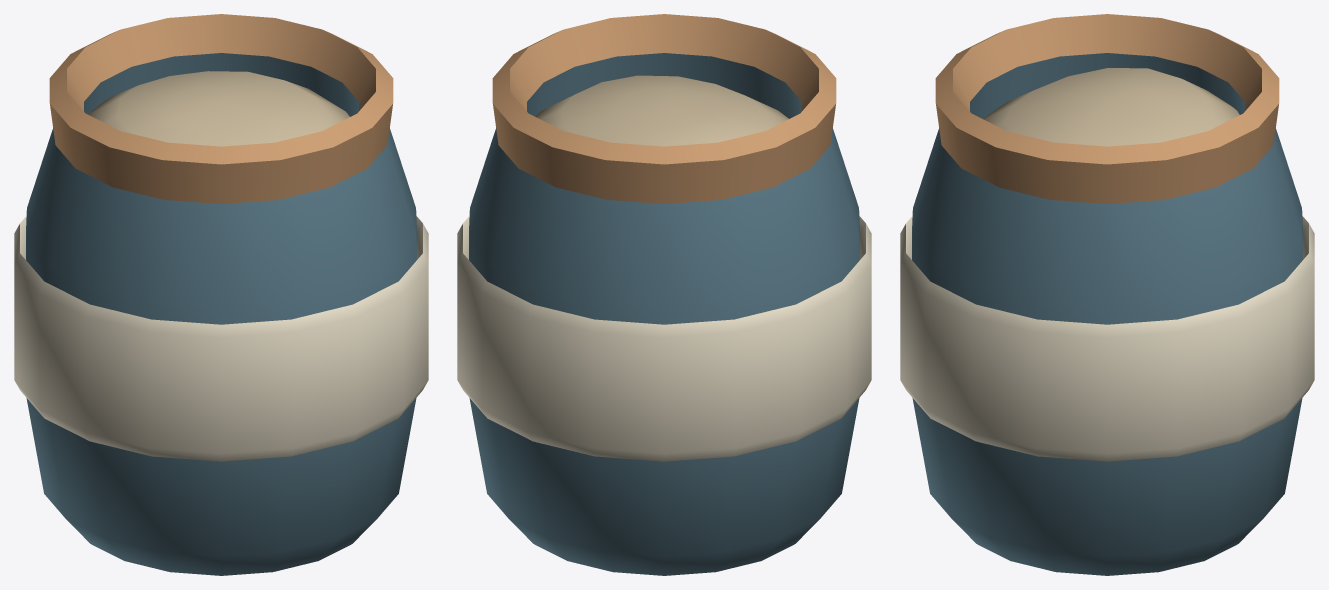
File: spice_crock.glb
3 views of the same model, side by side, from view 1: azimuth 30°, elevation 25°; view 2: azimuth 150°, elevation 25°; view 3: azimuth 270°, elevation 25° (orthographic).
Visible parts, largest first — view 1: spice_crock, contents; view 2: spice_crock, contents; view 3: spice_crock, contents.
Part boxes in pixels (x1=…): spice_crock: x1=14, y1=14, x2=428, y2=575; contents: x1=88, y1=71, x2=349, y2=146; spice_crock: x1=457, y1=14, x2=871, y2=575; contents: x1=535, y1=75, x2=788, y2=146; spice_crock: x1=900, y1=14, x2=1314, y2=575; contents: x1=983, y1=68, x2=1239, y2=146.
Bounding box in the file's own units: 0.0724 × 0.082 × 0.0713.
